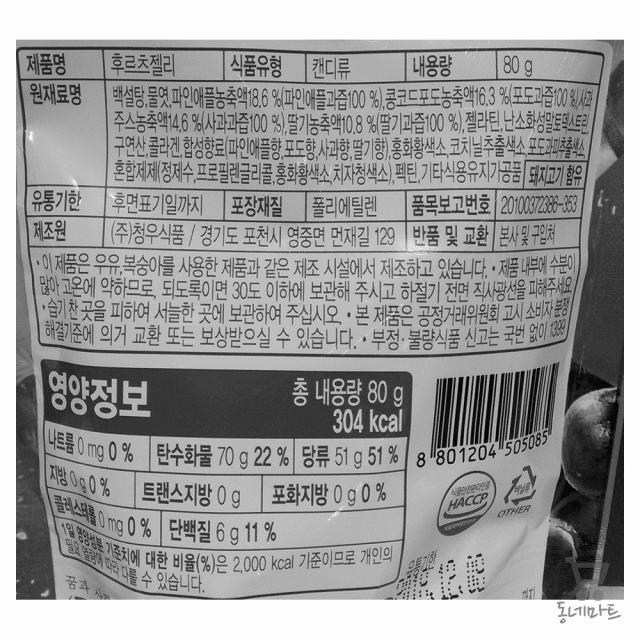Nutrition Label: (30, 353, 422, 604)
